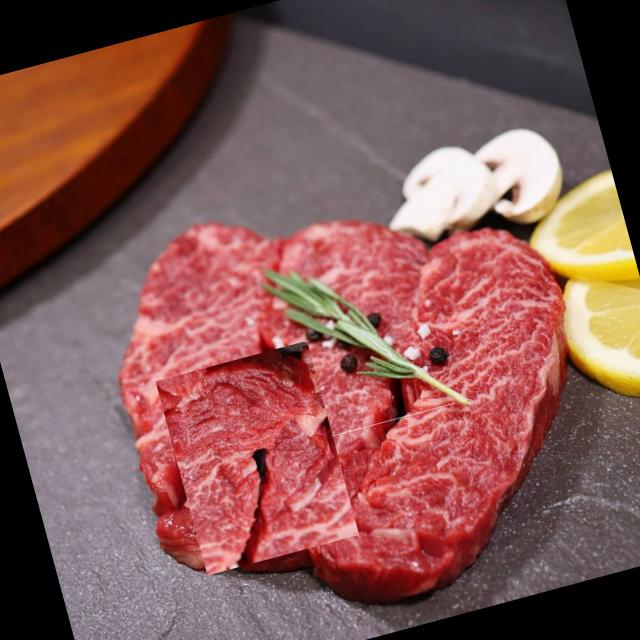beef: (154, 339, 359, 575), (332, 402, 495, 588)
